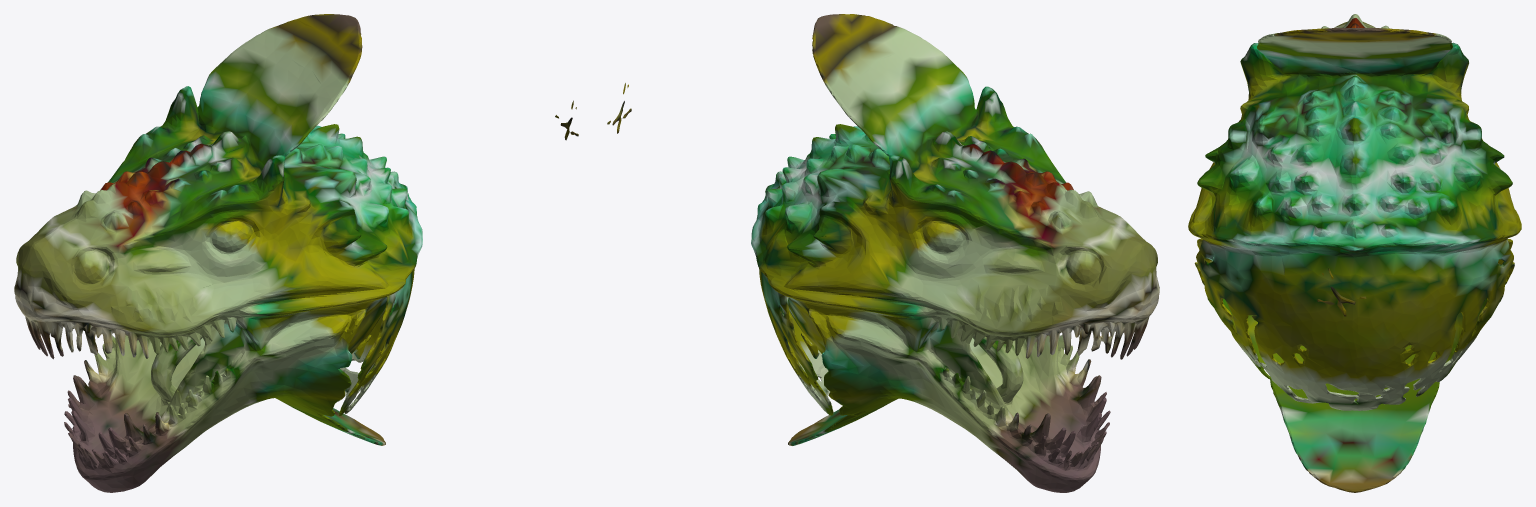
Rendered from grayBear.glb.
3 views of the same model, side by side, from view 1: azimuth 30°, elevation 25°; view 2: azimuth 150°, elevation 25°; view 3: azimuth 270°, elevation 25° (orthographic). The views are drawn at different scales.
Visible parts, largest first — view 1: world; view 2: world; view 3: world.
Part boxes in pixels (box(x1,y1,x2,y2)): world: box(14, 14, 578, 492); world: box(607, 14, 1159, 492); world: box(1188, 14, 1521, 492).
Size of the model in its own units: 1.33 by 1 by 0.6682.
